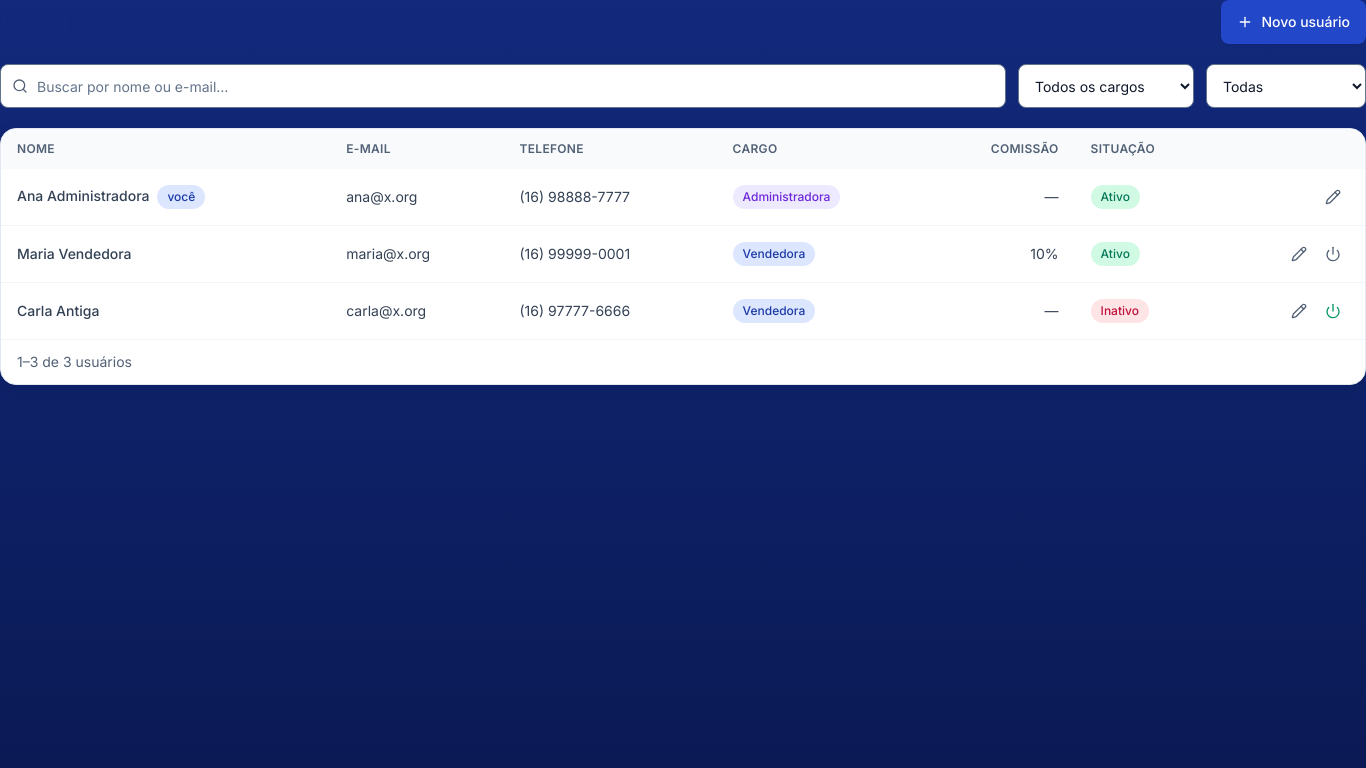
Scenario: Usuários: cadastro › mostra o que falta e não envia
Expected: the row "Maria Vendedora" is shown, [1,226,1365,282]
Step 1. Click the button "Novo usuário" → (1294, 22), box [1221,0,1365,44]
(page scrolled)
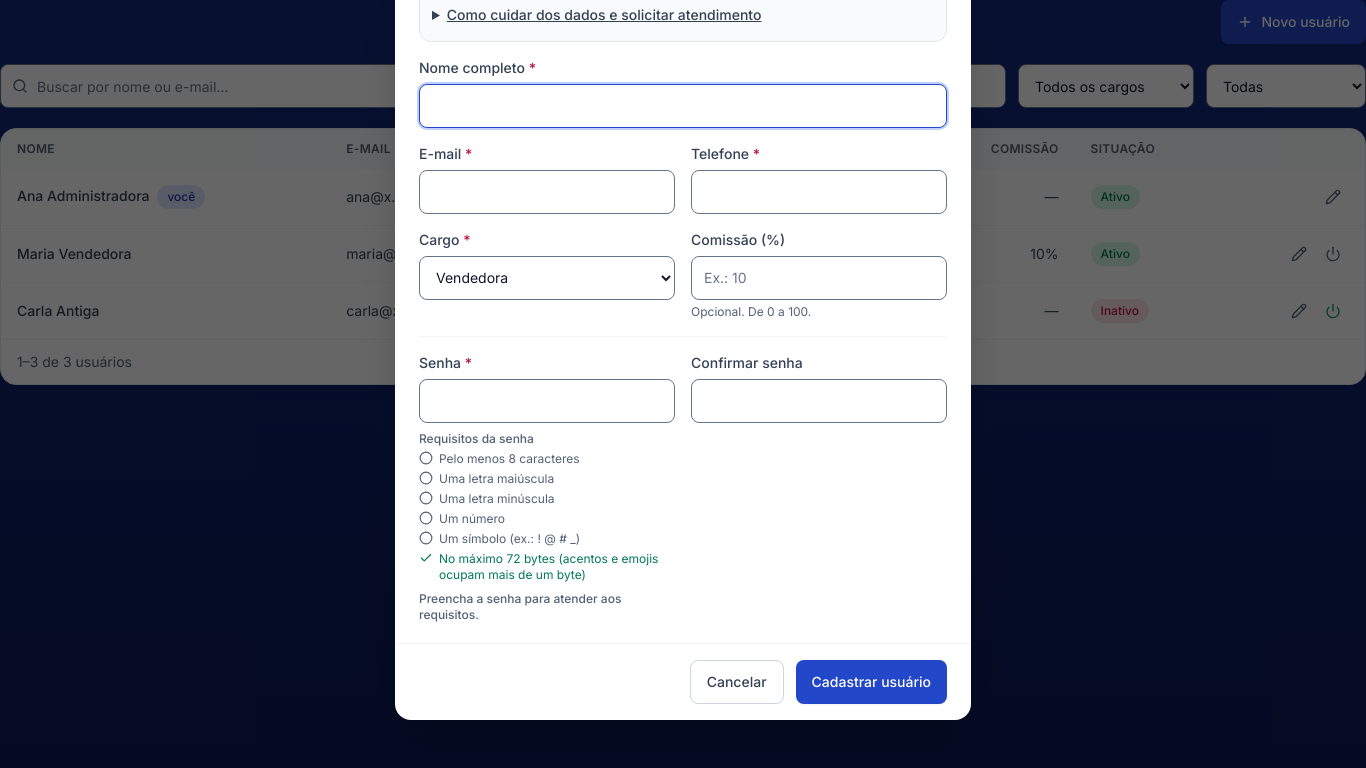
Step 2. Click the button "Cadastrar usuário" → (871, 682), box [796,660,947,704]
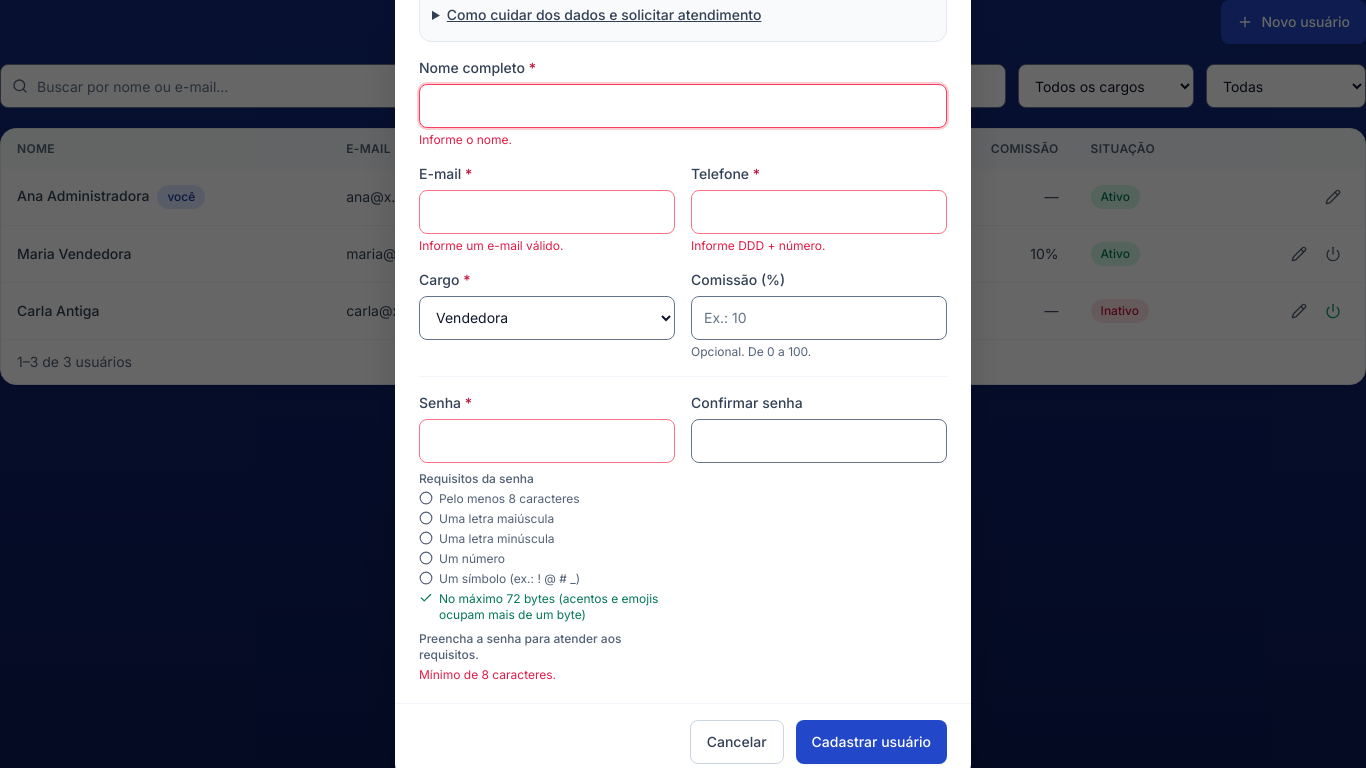
Result: the text "Informe o nome." is shown at [419,132,512,146]
Result: the text "Informe um e-mail válido." is shown at [419,238,563,252]
Result: the text "Informe DDD + número." is shown at [691,238,826,252]
